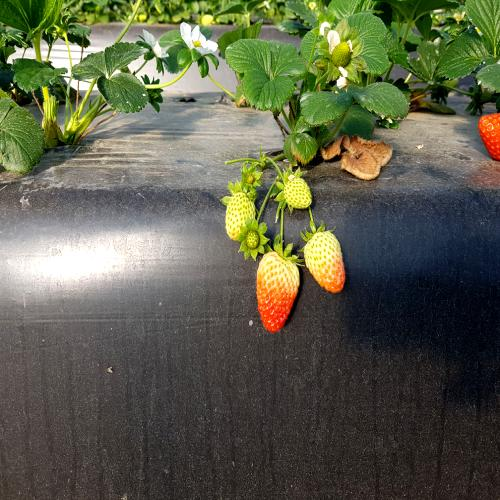partially-ripe: (256, 246, 302, 335), (302, 228, 352, 300)
